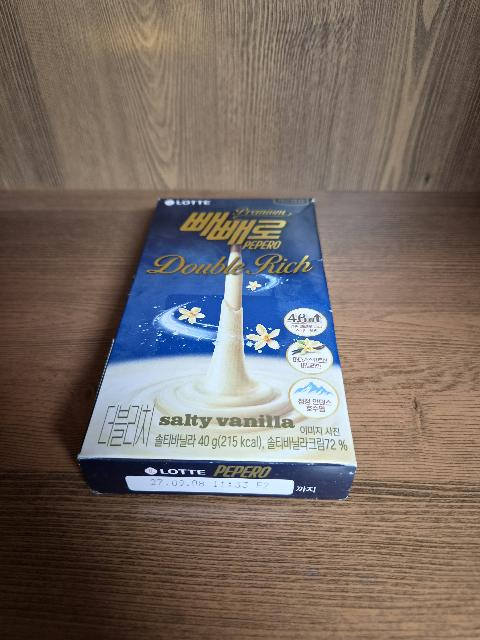pepero: (77, 197, 358, 500)
